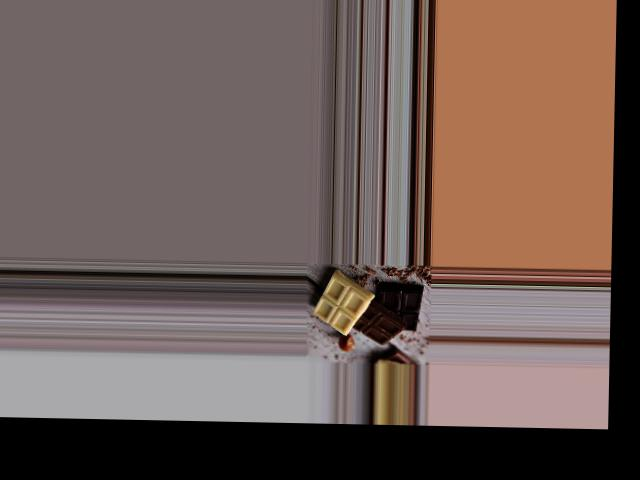chocolate: (313, 275, 428, 345)
